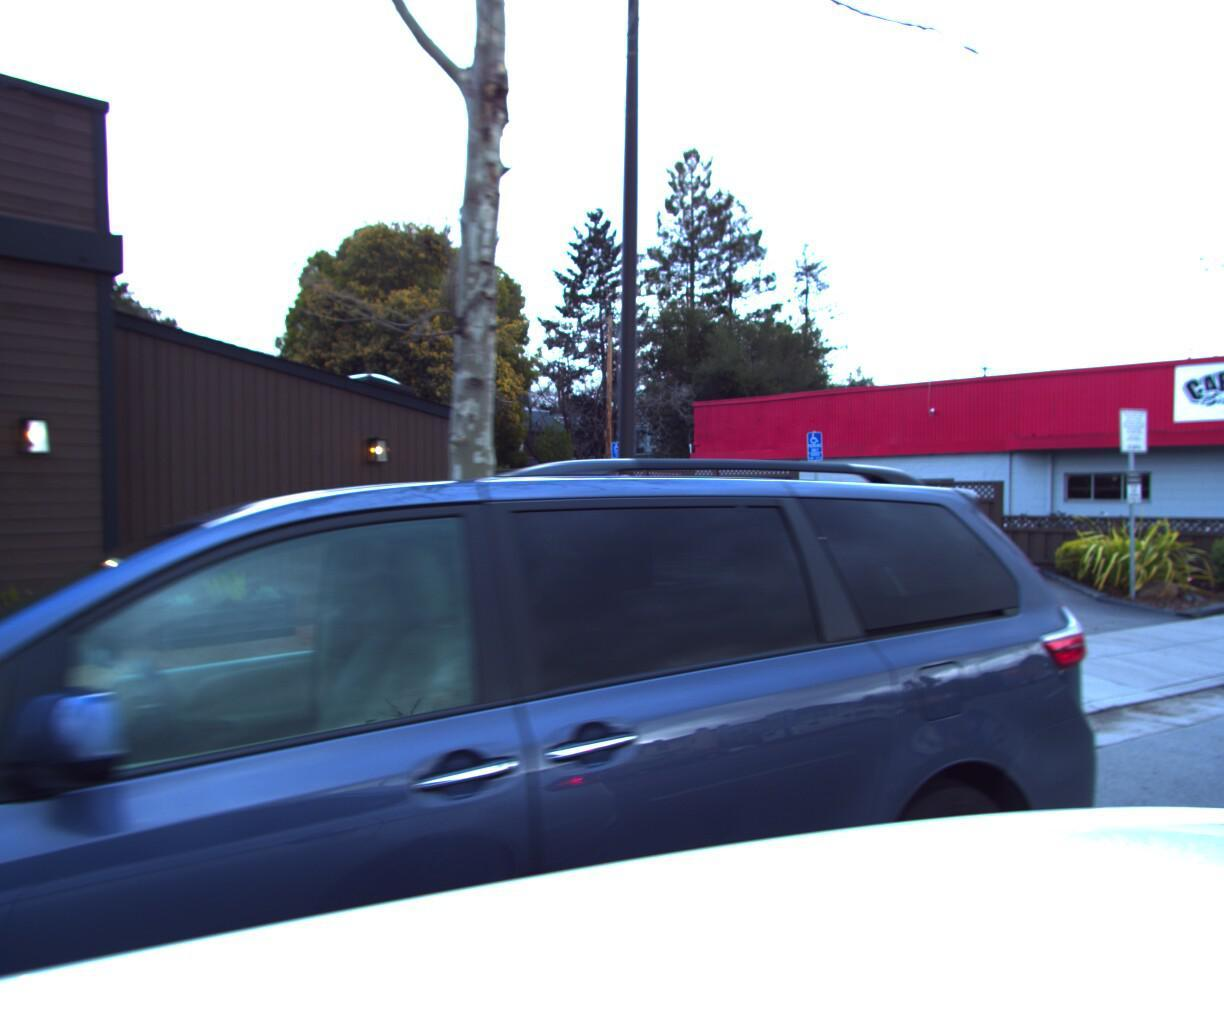car: (0, 342, 1184, 1024)
